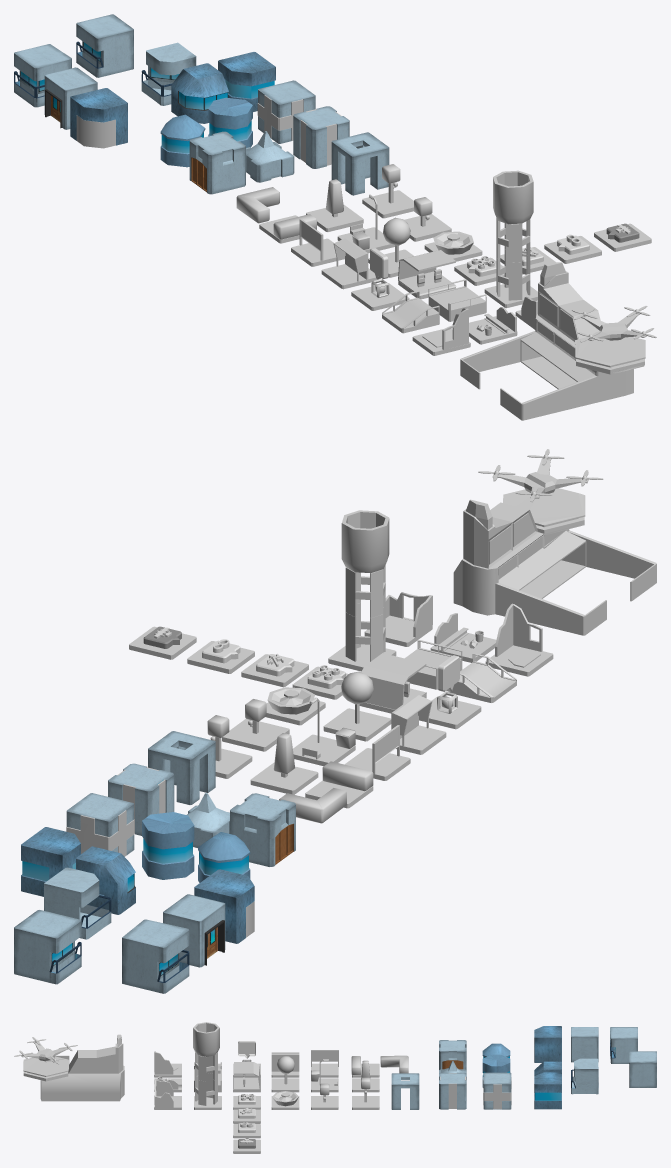
Rendered from Edificios1.FBX.
3 renders of one model, top to bottom at view 1: azimuth 30°, elevation 25°; view 2: azimuth 150°, elevation 25°; view 3: azimuth 270°, elevation 25°, orthographic. The views are drawn at different scales.
Visible parts, largest first — view 1: ceistalesHQ, BloqueBalcon, basecolumnas, Iglesia, azul2, BloqueBalcon002, BloqueBalcon001, azul1, ventanaI, azulBase, cuba, BloqueBase (+30 smaller); view 2: ceistalesHQ, BloqueBalcon, BloqueBalcon002, basecolumnas, cilindro1, Iglesia, BloqueBalcon001, BloqueBase, azul1, cuba, azul2, ventanaI (+32 smaller); view 3: ceistalesHQ, azul1, BloqueBalcon, azulBase, BloqueBalcon001, BloqueBalcon002, BloqueBase, basecolumnas, cuba, ventanaI, ventanaX, gasolinera (+28 smaller).
Boxes of the visible parts, x1,y1,x2,y2 form: ceistalesHQ: [460, 262, 645, 420]; BloqueBalcon: [76, 14, 133, 77]; basecolumnas: [331, 132, 389, 195]; Iglesia: [189, 131, 245, 194]; azul2: [171, 63, 228, 123]; BloqueBalcon002: [14, 44, 71, 107]; BloqueBalcon001: [141, 42, 196, 105]; azul1: [218, 52, 275, 111]; ventanaI: [293, 106, 349, 168]; azulBase: [70, 88, 127, 145]; cuba: [493, 170, 533, 224]; BloqueBase: [44, 67, 97, 129]; ceistalesHQ: [453, 488, 656, 635]; BloqueBalcon: [14, 910, 81, 984]; BloqueBalcon002: [122, 919, 189, 993]; basecolumnas: [148, 731, 215, 804]; cilindro1: [142, 812, 194, 879]; Iglesia: [230, 793, 295, 866]; BloqueBalcon001: [44, 867, 111, 939]; BloqueBase: [163, 894, 225, 967]; azul1: [21, 827, 80, 896]; cuba: [341, 510, 389, 572]; azul2: [76, 846, 135, 914]; ventanaI: [108, 763, 174, 835]; ceistalesHQ: [23, 1034, 124, 1101]; azul1: [534, 1072, 561, 1109]; BloqueBalcon: [629, 1051, 656, 1087]; azulBase: [534, 1026, 561, 1062]; BloqueBalcon001: [571, 1058, 598, 1094]; BloqueBalcon002: [610, 1027, 637, 1063]; BloqueBase: [571, 1027, 598, 1062]; basecolumnas: [391, 1073, 419, 1109]; cuba: [193, 1022, 219, 1056]; ventanaI: [439, 1072, 466, 1109]; ventanaX: [483, 1072, 511, 1109]; gasolinera: [233, 1062, 260, 1089].
Size of the model in its own units: 874 by 302 by 2313.
Materials: 2 (1 with a texture image).
